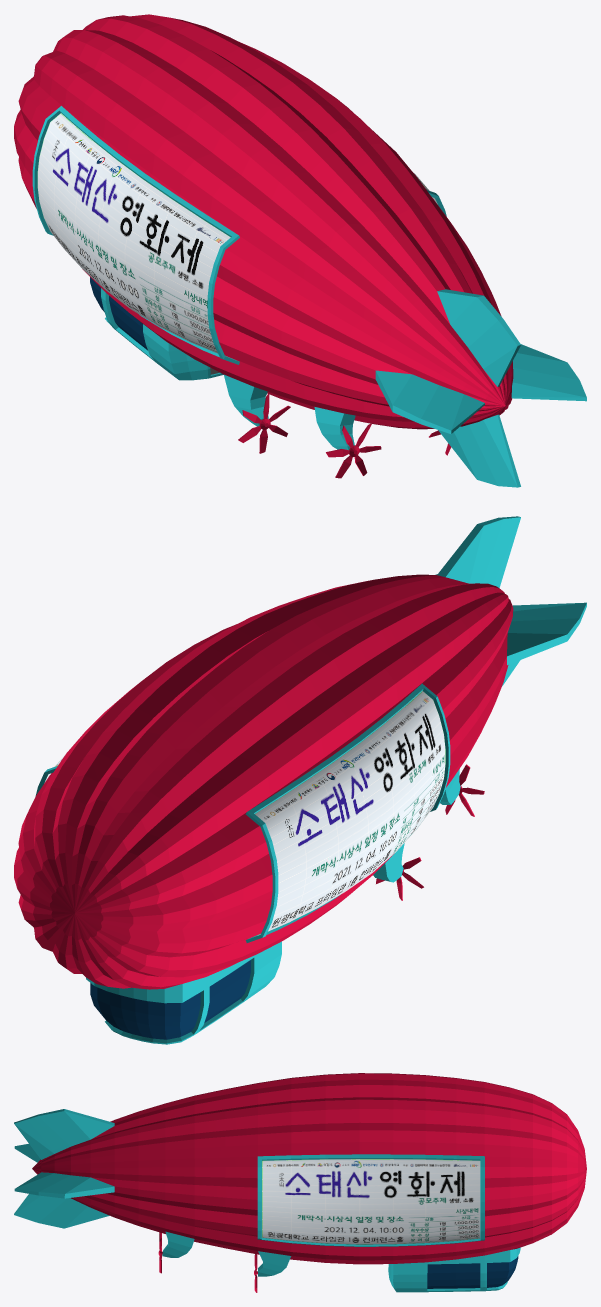
The model's file is 비행fix.fbx.
3 renders of one model, top to bottom at view 1: azimuth 30°, elevation 25°; view 2: azimuth 150°, elevation 25°; view 3: azimuth 270°, elevation 25°, orthographic. The views are drawn at different scales.
Parts seen in each view (by area): view 1: Object002, Object004, Object006, Object003, Object005, Box001; view 2: Object002, Object004, Object005, Object006, Object003, Box001; view 3: Object002, Object004, Object006, Object005, Object003.
Part boxes in pixels (x1=…): Object002: x1=14, y1=14, x2=513, y2=429; Object004: x1=37, y1=113, x2=437, y2=357; Object006: x1=224, y1=289, x2=586, y2=487; Object003: x1=32, y1=106, x2=446, y2=364; Object005: x1=90, y1=277, x2=223, y2=380; Box001: x1=210, y1=367, x2=451, y2=478; Object002: x1=14, y1=574, x2=513, y2=989; Object004: x1=45, y1=691, x2=445, y2=936; Object005: x1=86, y1=941, x2=281, y2=1044; Object006: x1=373, y1=516, x2=586, y2=882; Object003: x1=35, y1=683, x2=450, y2=942; Box001: x1=376, y1=764, x2=484, y2=900; Object002: x1=32, y1=1073, x2=586, y2=1264; Object004: x1=262, y1=1159, x2=480, y2=1244; Object006: x1=14, y1=1109, x2=291, y2=1276; Object005: x1=388, y1=1247, x2=520, y2=1292; Object003: x1=257, y1=1154, x2=484, y2=1246.
Size of the model in its own units: 102 by 113 by 296.
